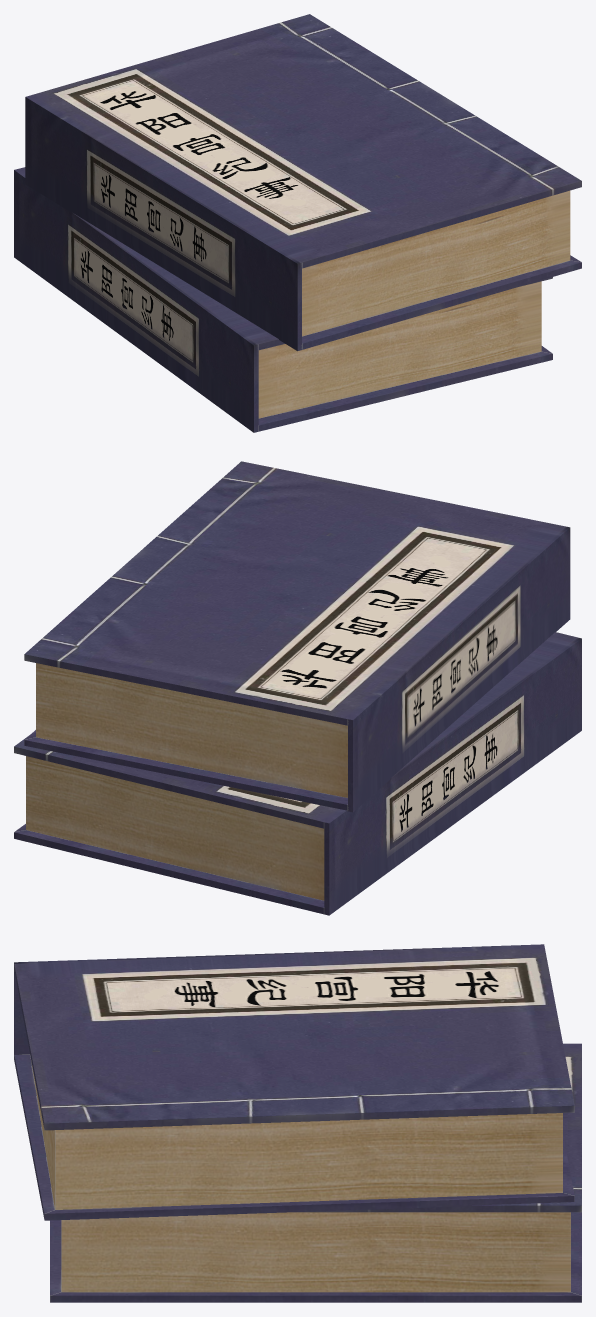
3 renders of one model, top to bottom at view 1: azimuth 30°, elevation 25°; view 2: azimuth 150°, elevation 25°; view 3: azimuth 270°, elevation 25°, orthographic. The views are drawn at different scales.
Parts seen in each view (by area): view 1: SY-书; view 2: SY-书; view 3: SY-书.
Boxes of the visible parts, x1,y1,x2,y2 form: SY-书: (14, 14, 581, 432); SY-书: (14, 461, 581, 915); SY-书: (14, 944, 581, 1302).
Bounding box in the file's own units: 0.243 × 0.3253 × 0.1222.
